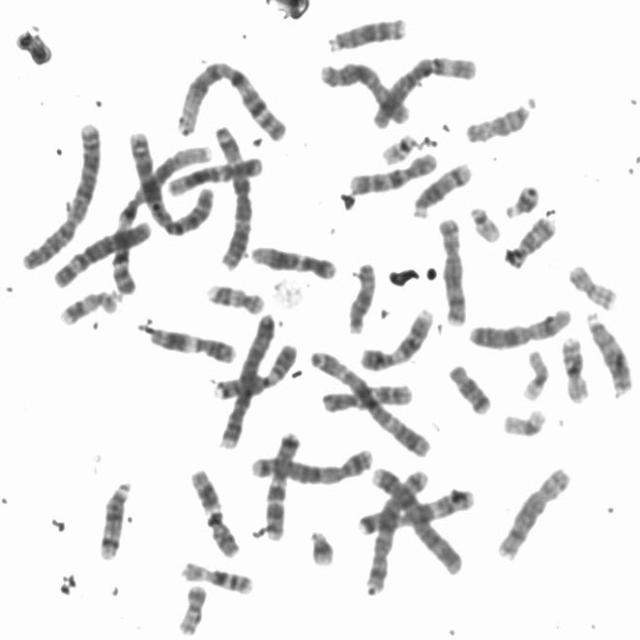A1: (106, 134, 215, 298), (173, 57, 289, 144)
A2: (15, 117, 106, 273), (122, 127, 216, 239)
A3: (304, 344, 433, 458), (210, 118, 255, 271)
B4: (363, 462, 467, 578), (214, 306, 278, 451)
B5: (361, 464, 430, 596), (247, 445, 375, 486)
C10: (345, 148, 440, 196), (318, 378, 415, 416)
C11: (185, 465, 242, 559), (141, 321, 237, 365)
C12: (162, 153, 265, 200), (246, 240, 340, 281)
C6: (370, 50, 480, 130), (48, 214, 155, 291)
C7: (354, 488, 476, 540), (259, 423, 306, 542)
C8: (492, 462, 573, 562), (433, 212, 469, 328)
C9: (209, 343, 300, 403), (356, 304, 436, 372)
D13: (581, 307, 635, 396), (323, 12, 408, 54)
D14: (408, 156, 475, 221), (94, 475, 136, 562)
D15: (462, 97, 537, 145), (342, 258, 379, 338)
E16: (176, 555, 257, 597), (558, 332, 591, 405)
E17: (54, 286, 119, 328), (202, 276, 267, 317)
E18: (502, 212, 558, 269), (444, 359, 494, 416)
F19: (518, 346, 552, 402), (498, 404, 548, 439)
F20: (564, 258, 620, 311), (174, 581, 209, 637)
G21: (304, 525, 338, 569), (500, 182, 539, 220)
G22: (465, 200, 504, 245), (375, 129, 419, 167)
X: (316, 57, 412, 126), (464, 303, 574, 351)
